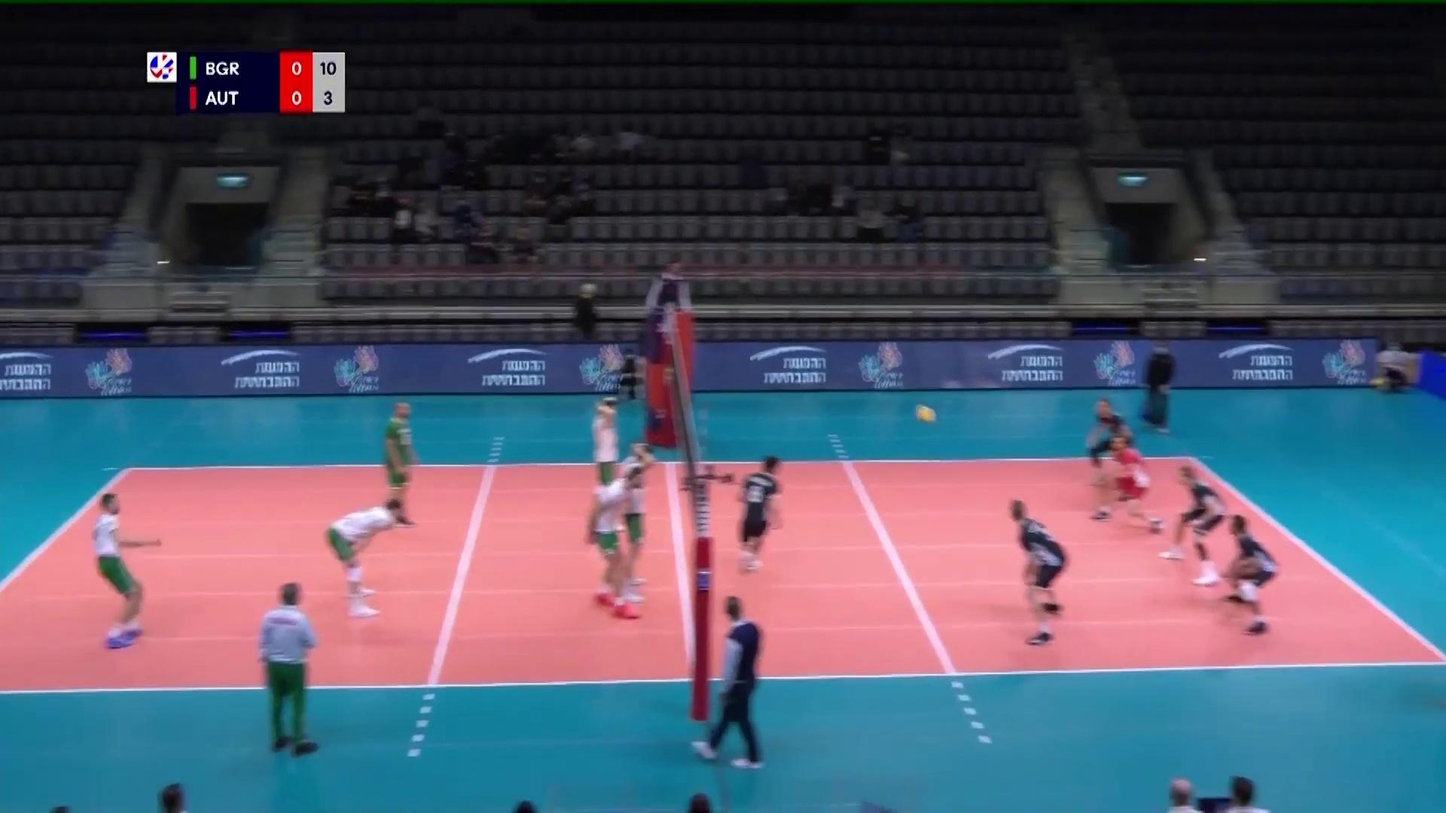ball: (915, 405, 939, 425)
